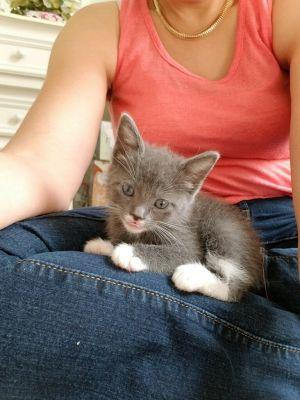rblue: (96, 108, 227, 251)
